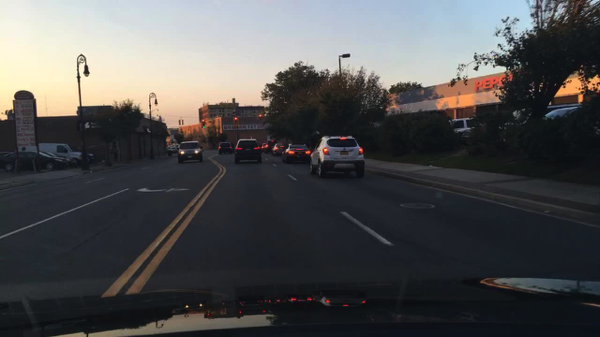car: (493, 103, 573, 143), (311, 135, 365, 177), (1, 151, 74, 173), (1, 149, 78, 165), (534, 105, 587, 128), (34, 143, 96, 162), (445, 118, 482, 139), (234, 138, 264, 163), (279, 142, 311, 165), (175, 140, 203, 162), (271, 143, 287, 157), (218, 142, 232, 154), (265, 140, 276, 154), (260, 142, 269, 156), (171, 146, 178, 153), (166, 147, 173, 153)
traffic light: (233, 115, 238, 123), (258, 114, 263, 121), (178, 119, 182, 125), (199, 123, 203, 129), (201, 118, 205, 124), (202, 124, 205, 129), (182, 120, 184, 126)
